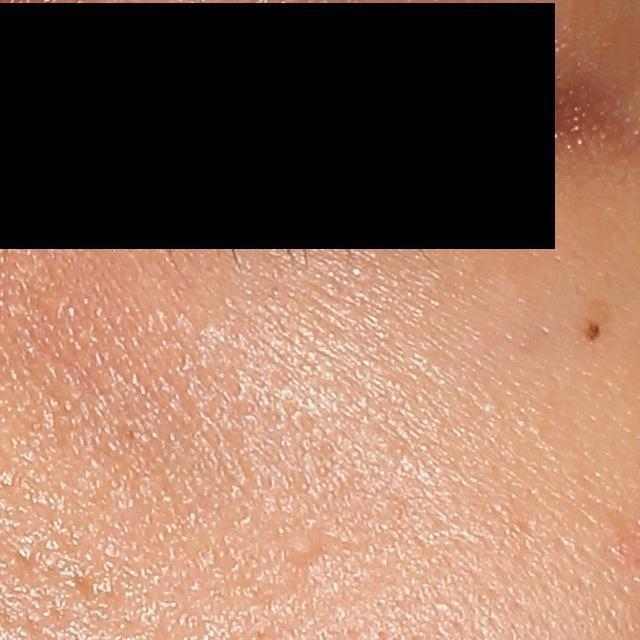nevus: (577, 318, 601, 344)
